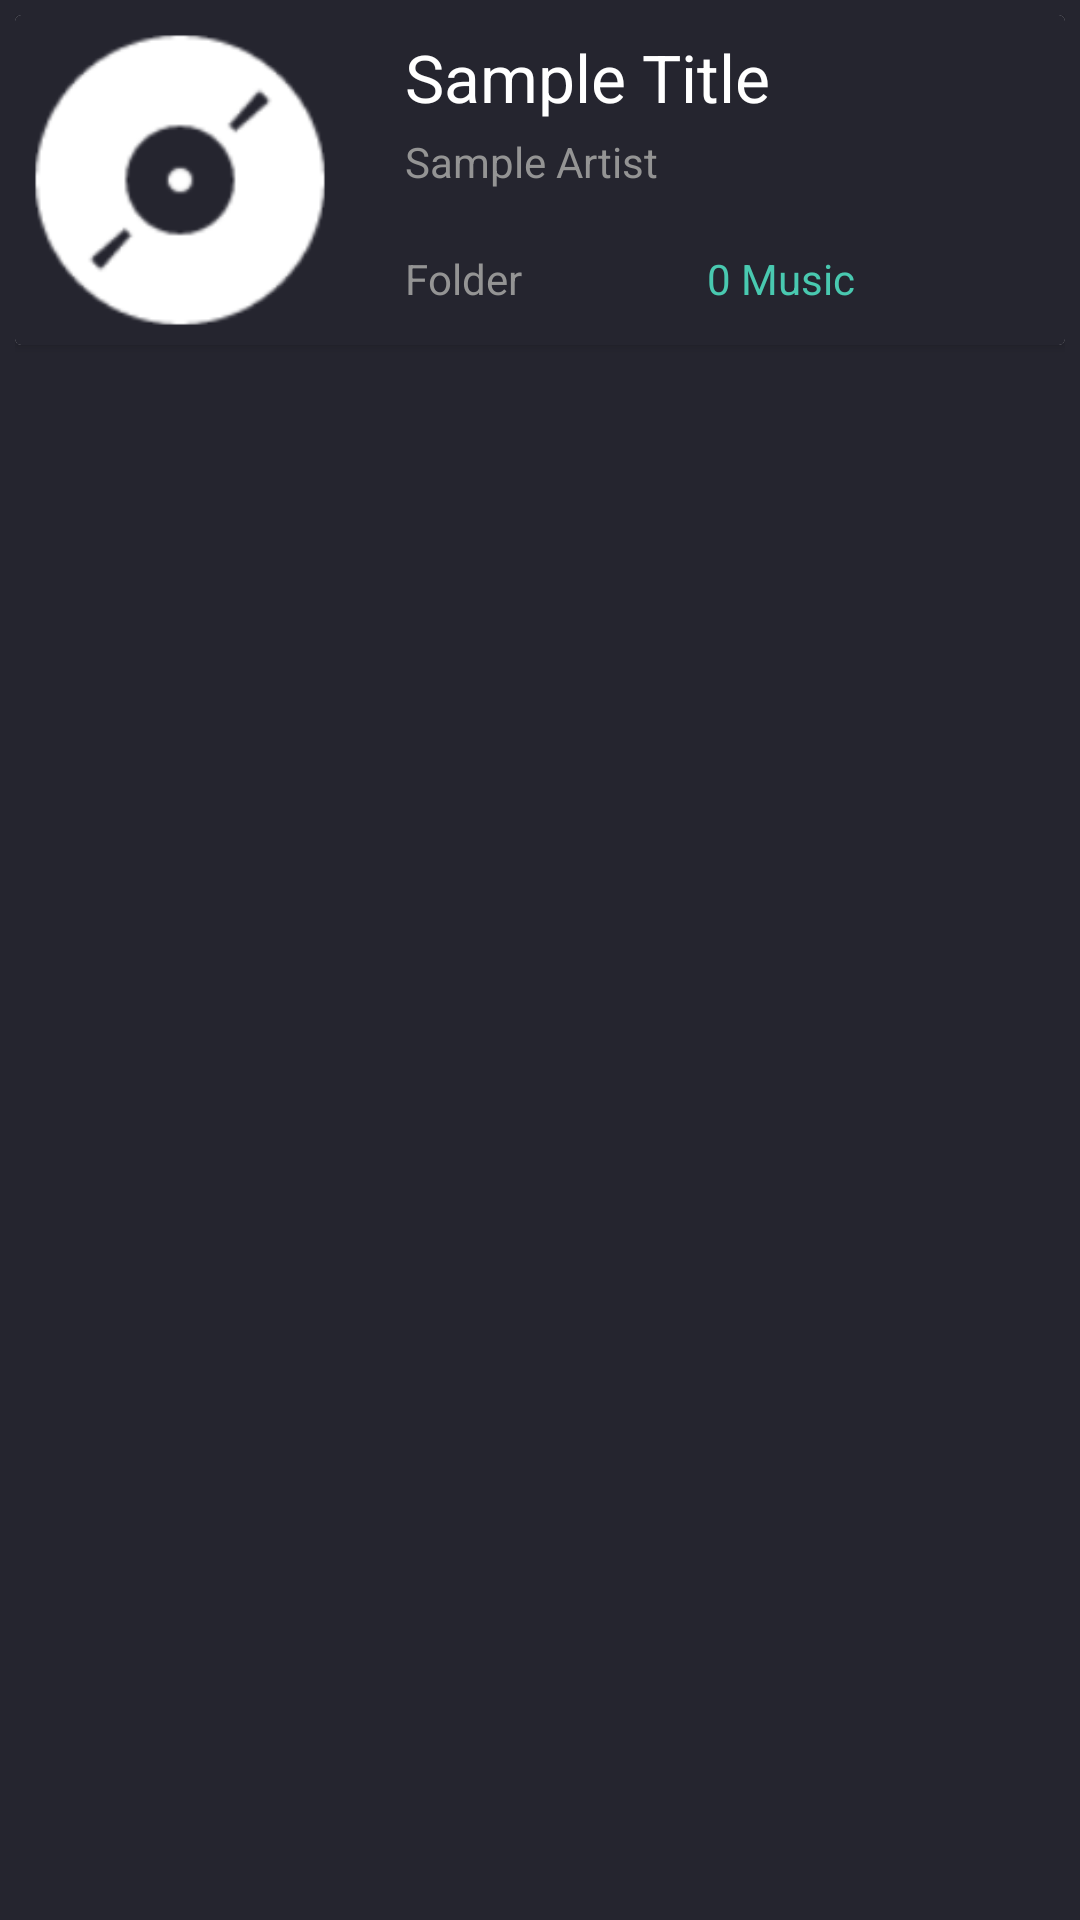

Screen size 1080px×1920px. Icon name, then its box in pixels as (x1, y1, x2, y2):
music: (15, 15, 325, 345)
